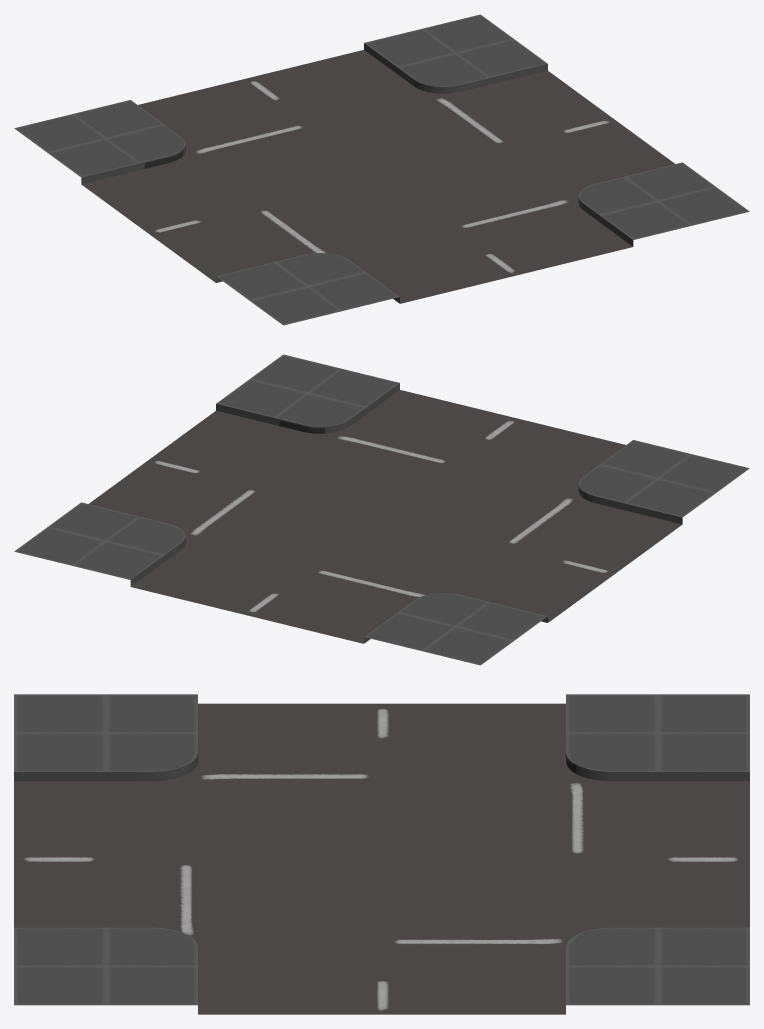
Rendered from kruisweg3.fbx.
3 renders of one model, top to bottom at view 1: azimuth 30°, elevation 25°; view 2: azimuth 150°, elevation 25°; view 3: azimuth 270°, elevation 25°, orthographic. The views are drawn at different scales.
Parts seen in each view (by area): view 1: pPlane1; view 2: pPlane1; view 3: pPlane1.
Part boxes in pixels (x1,y1,x2,y2): pPlane1: [14, 14, 749, 325]; pPlane1: [14, 354, 749, 665]; pPlane1: [14, 694, 749, 1014].
Size of the model in its own units: 22.88 by 0.3225 by 22.88.
